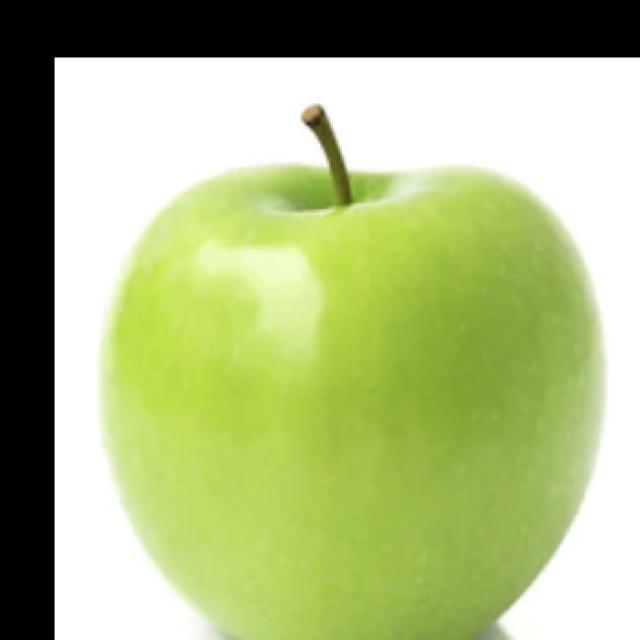Fresh Apple: (96, 154, 609, 640)
